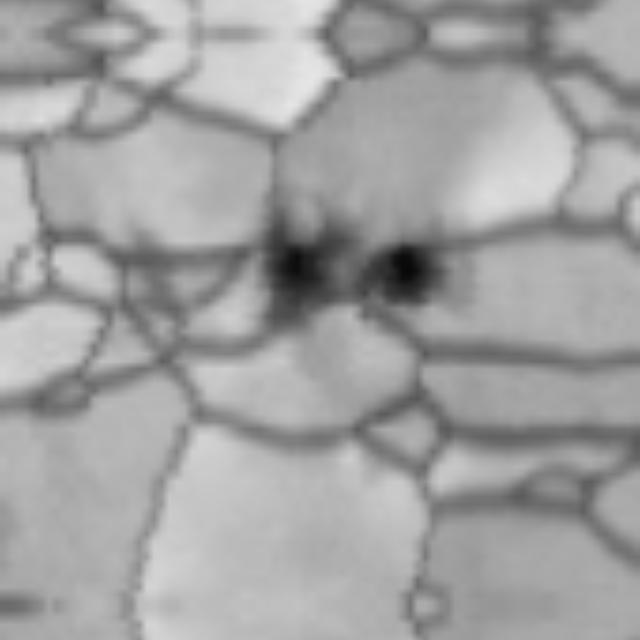good_void: (354, 224, 476, 327), (263, 222, 354, 328)
